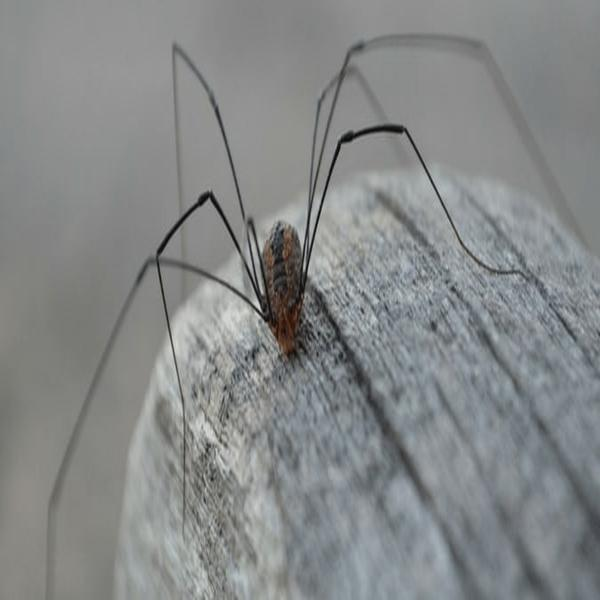Daddy Long Legs Spider: (67, 29, 520, 558)
